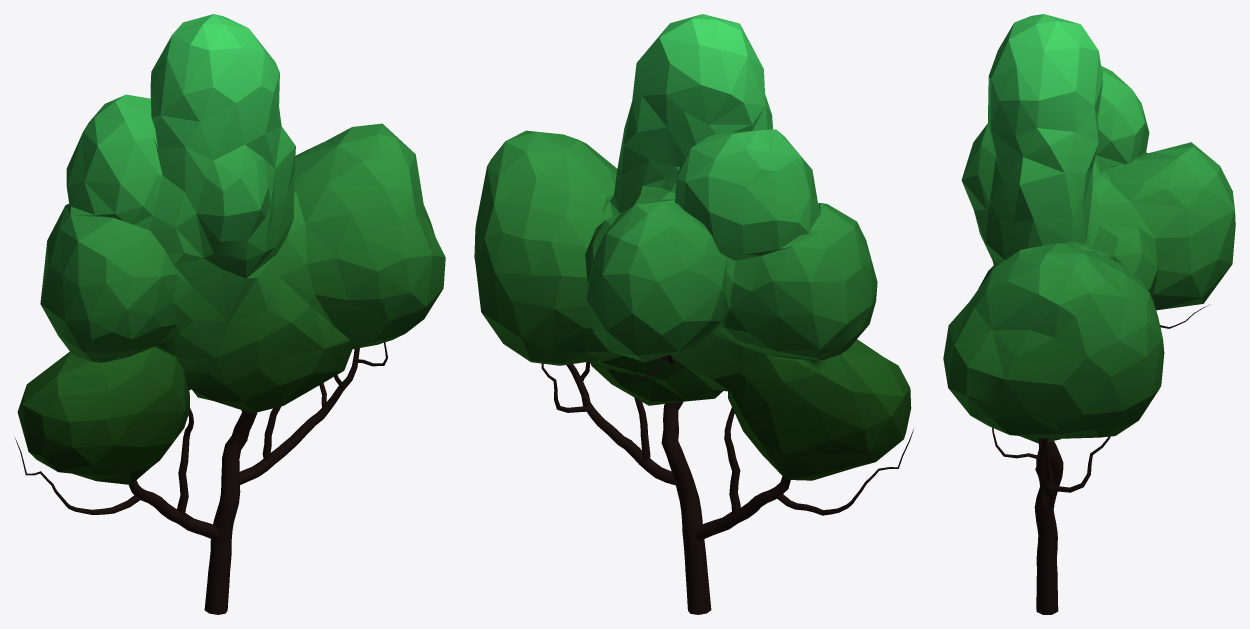
File: Tree_01.fbx
The picture shows the model from 3 angles, left to right: view 1: azimuth 30°, elevation 25°; view 2: azimuth 150°, elevation 25°; view 3: azimuth 270°, elevation 25°; orthographic projection.
Parts seen in each view (by area): view 1: Tree_01; view 2: Tree_01; view 3: Tree_01.
Boxes of the visible parts, x1,y1,x2,y2 form: Tree_01: (15,14,445,614); Tree_01: (474,14,913,614); Tree_01: (943,14,1235,614).
Bounding box in the file's own units: 448 × 618 × 277.
